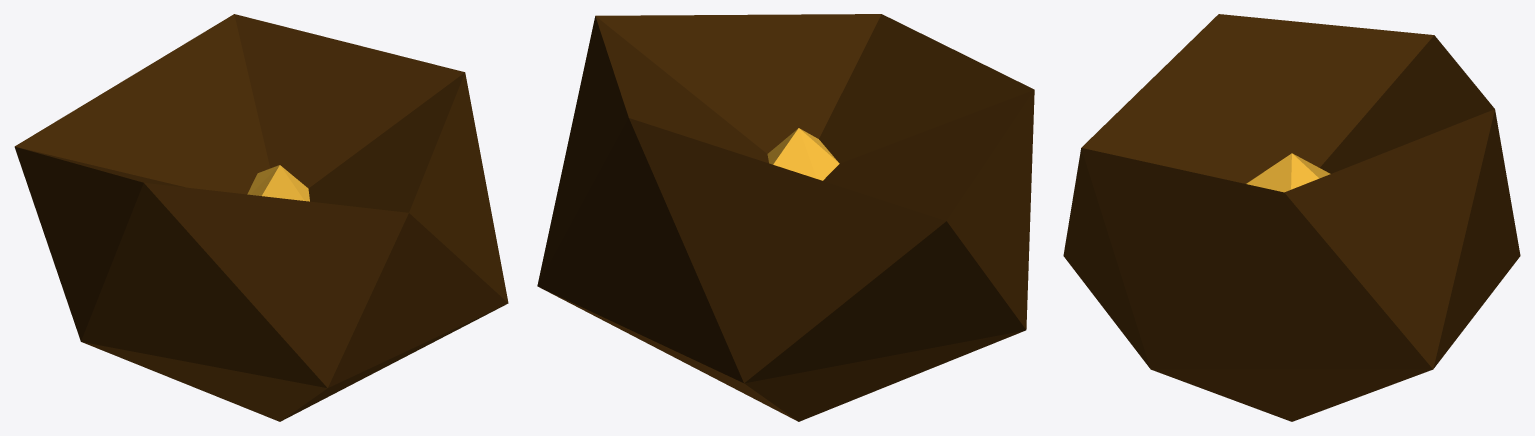
Rendered from plant_0.obj.
3 renders of one model, left to right at view 1: azimuth 30°, elevation 25°; view 2: azimuth 150°, elevation 25°; view 3: azimuth 270°, elevation 25°, orthographic. The views are drawn at different scales.
Visible parts, largest first — view 1: Icosphere; view 2: Icosphere; view 3: Icosphere.
Part boxes in pixels (<box>): Icosphere: <box>14,14,508,421</box>; Icosphere: <box>537,14,1034,421</box>; Icosphere: <box>1063,14,1520,421</box>.
Bounding box in the file's own units: 0.342 × 0.2785 × 0.3403.
